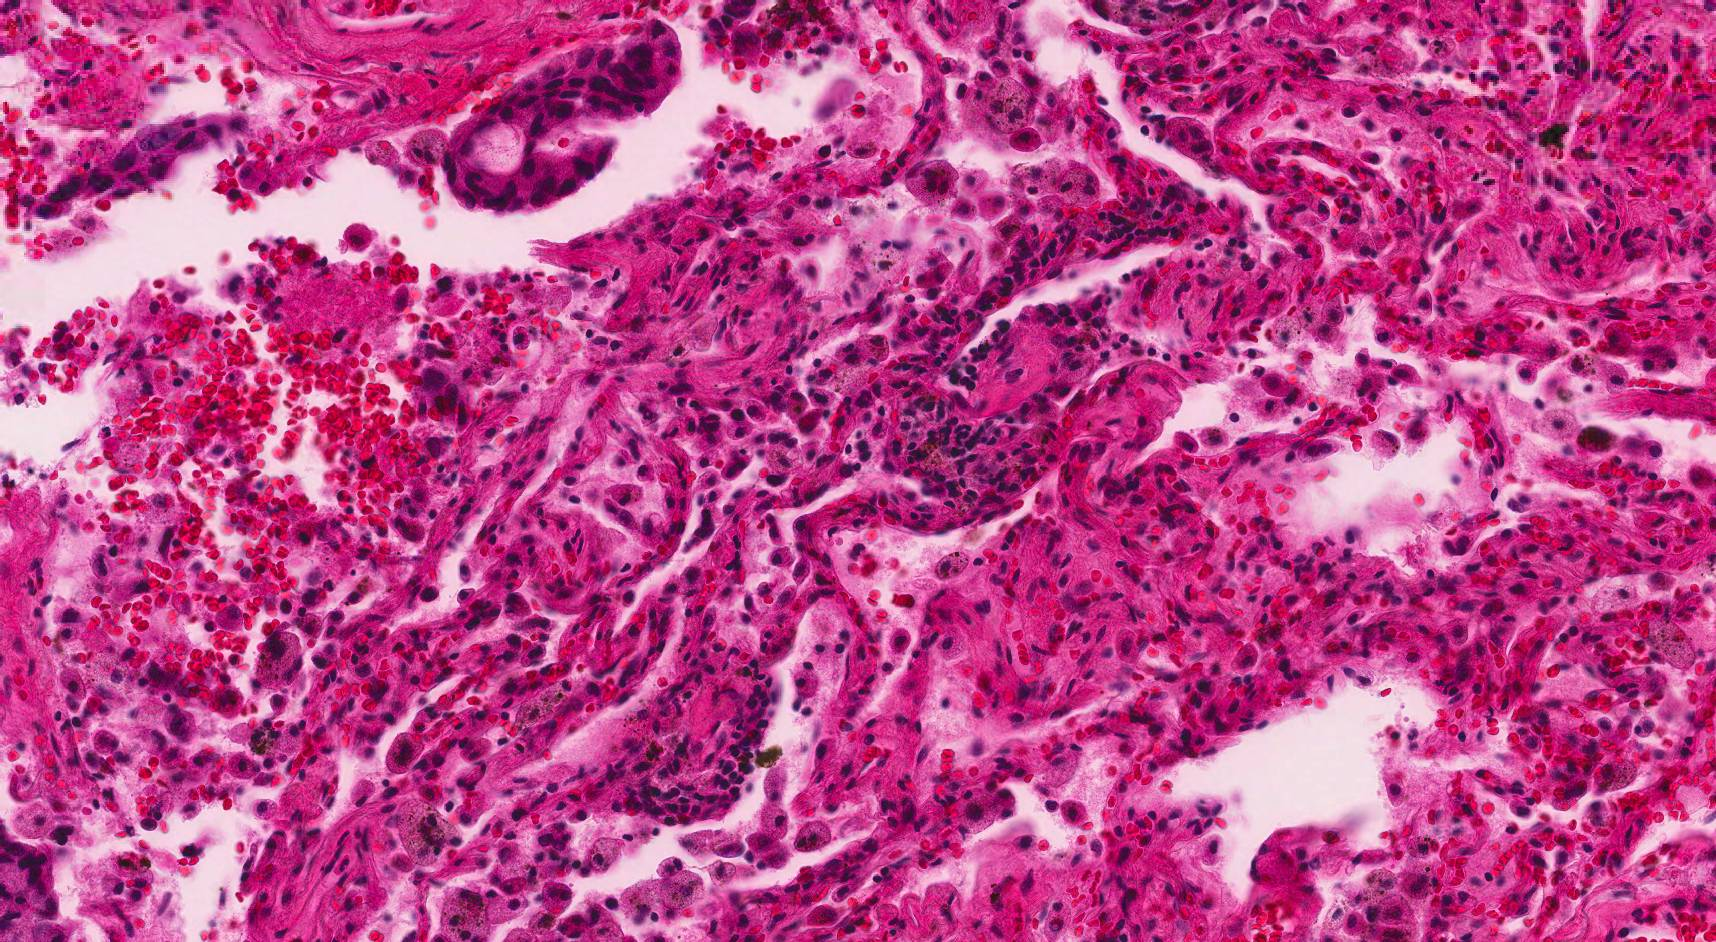stas: (444, 20, 680, 214), (36, 113, 246, 215)
